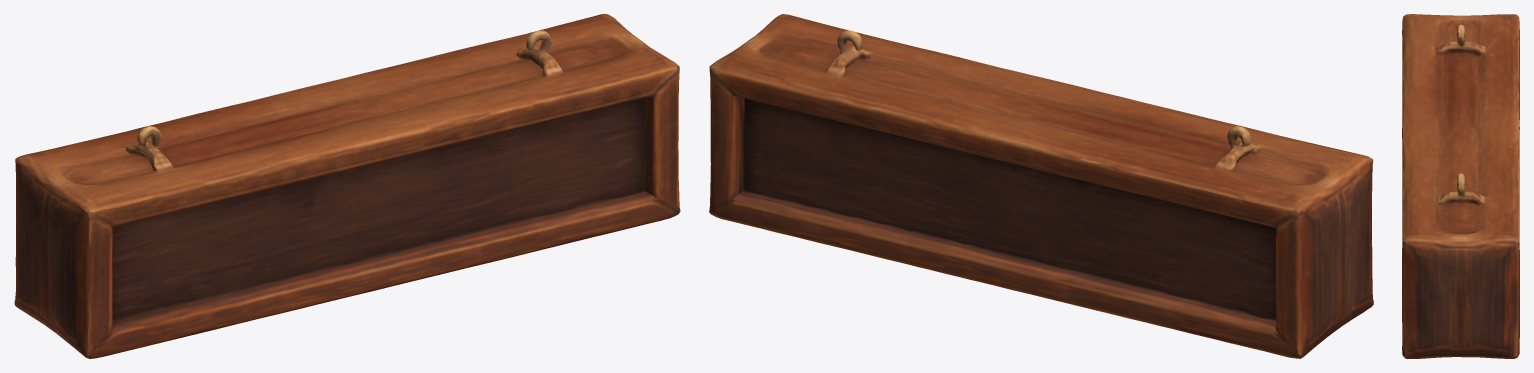
Rendered from sign.glb.
3 renders of one model, left to right at view 1: azimuth 30°, elevation 25°; view 2: azimuth 150°, elevation 25°; view 3: azimuth 270°, elevation 25°, orthographic. The views are drawn at different scales.
Parts seen in each view (by area): view 1: world; view 2: world; view 3: world.
Boxes of the visible parts, x1,y1,x2,y2 form: world: (14, 14, 680, 358); world: (709, 14, 1373, 358); world: (1402, 14, 1519, 358).
Size of the model in its own units: 1 by 0.3013 by 0.2149.
1 material, 1 textured.
